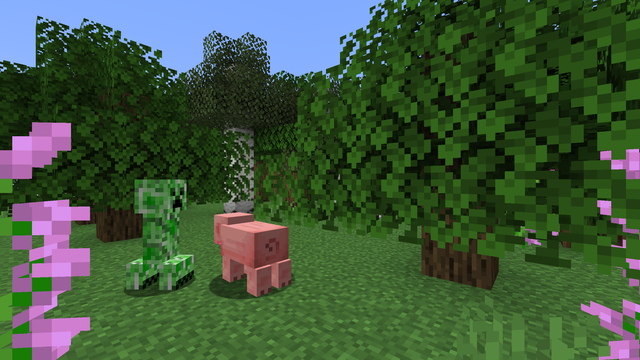cochons: (213, 220, 293, 297)
creepers: (133, 174, 189, 294)
